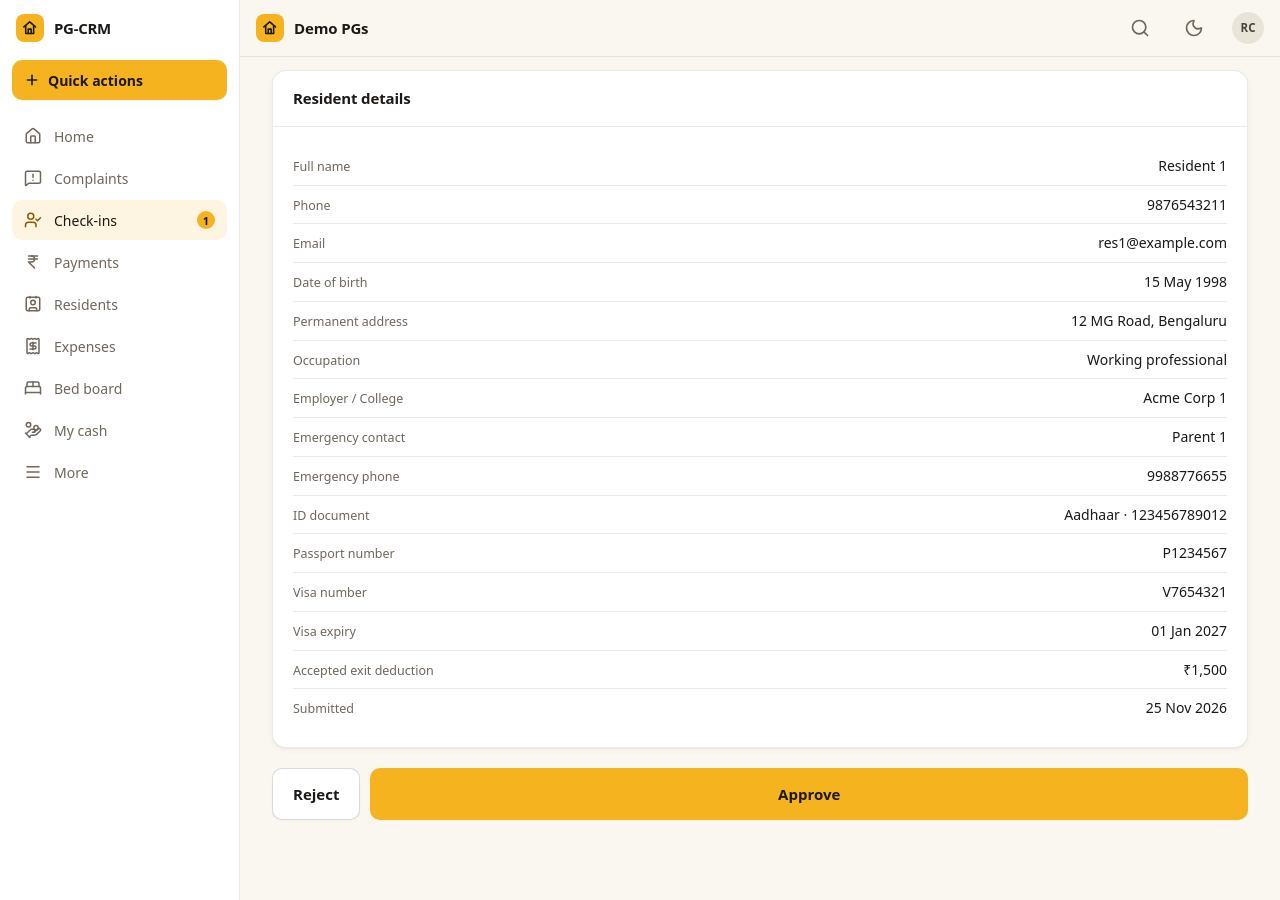
Test case: FE-21 Caretaker check-in approval flow › [FE-21/AC6] API errors (e.g. backdated check-in) are shown as the API error message
(page scrolled)
Click the button "Approve": (809,794) [370,768,1248,820]
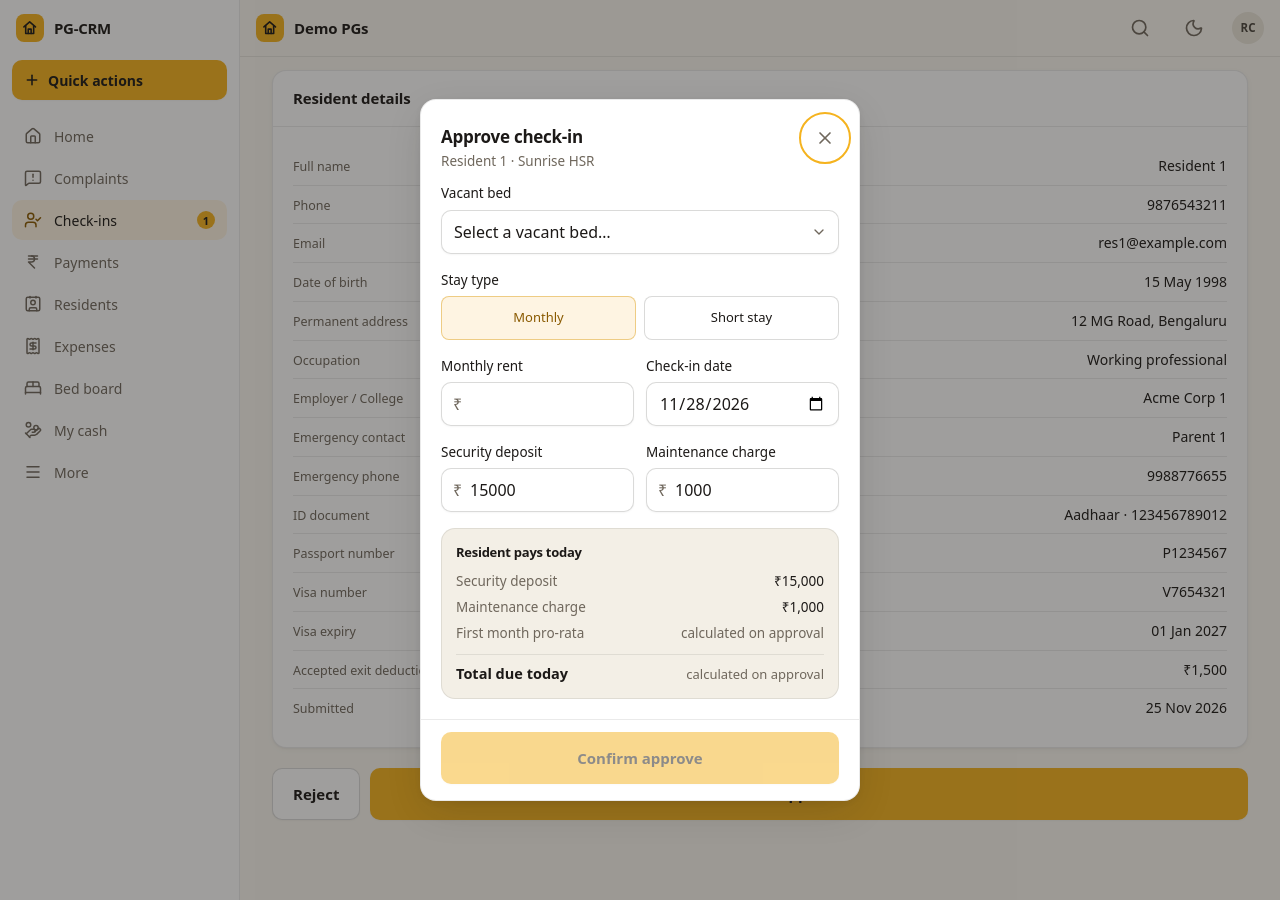
Select "101-A — ₹10,500/mo" in the dropdown labelled "Vacant bed": (640,232) [441,210,839,254]
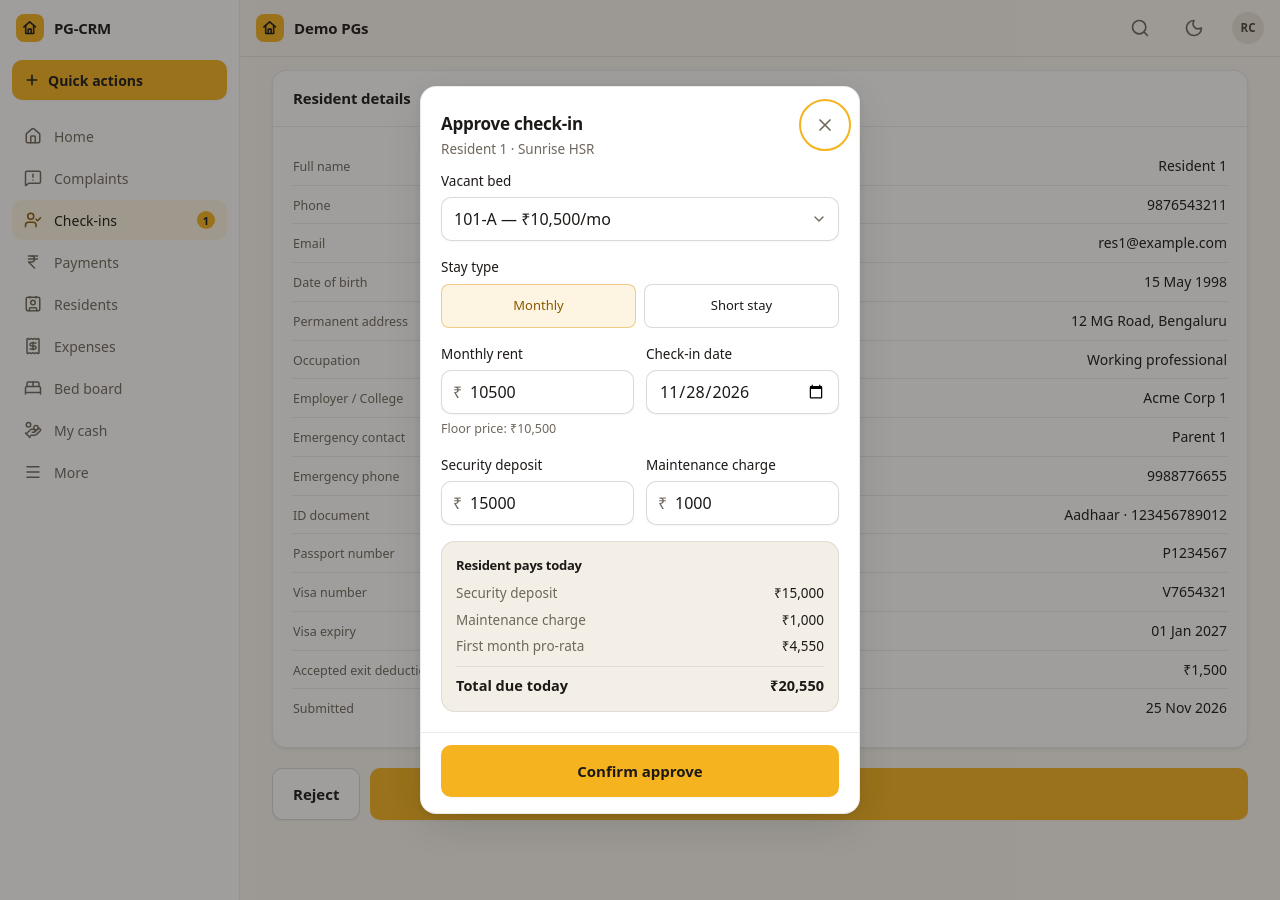
Click the button "Confirm approve": (640,771) [441,745,839,797]
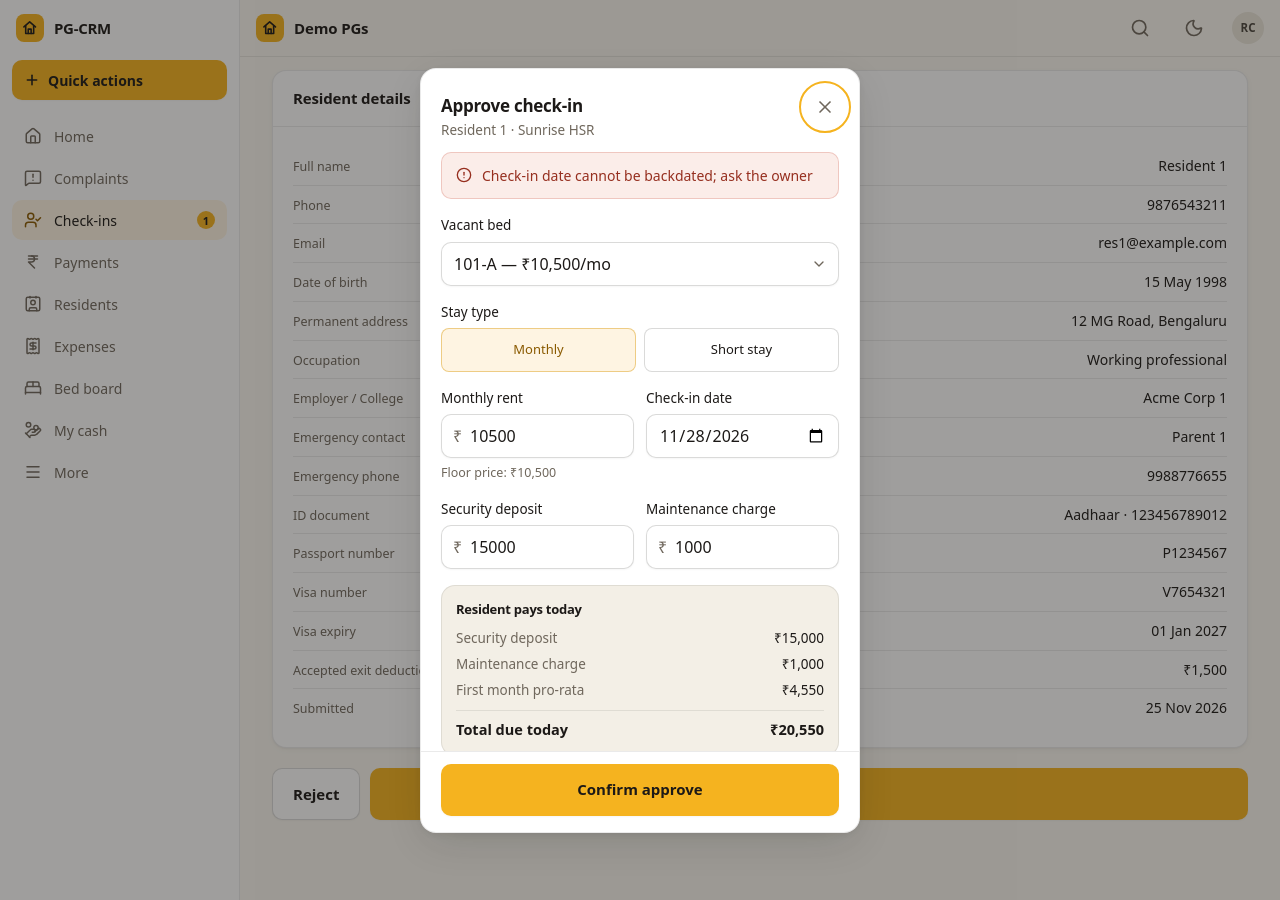
Expected: the text "Check-in date cannot be backdated; ask the owner" is shown, [482,165,824,186]
